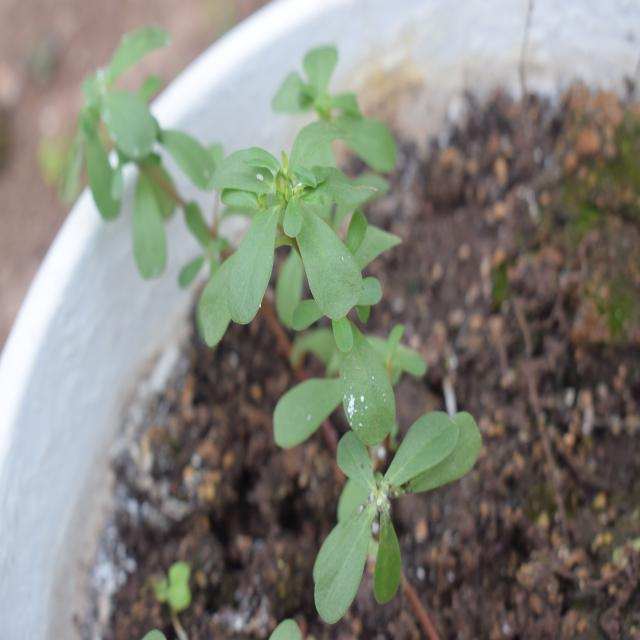purslane: (218, 144, 467, 573), (52, 27, 244, 282)
